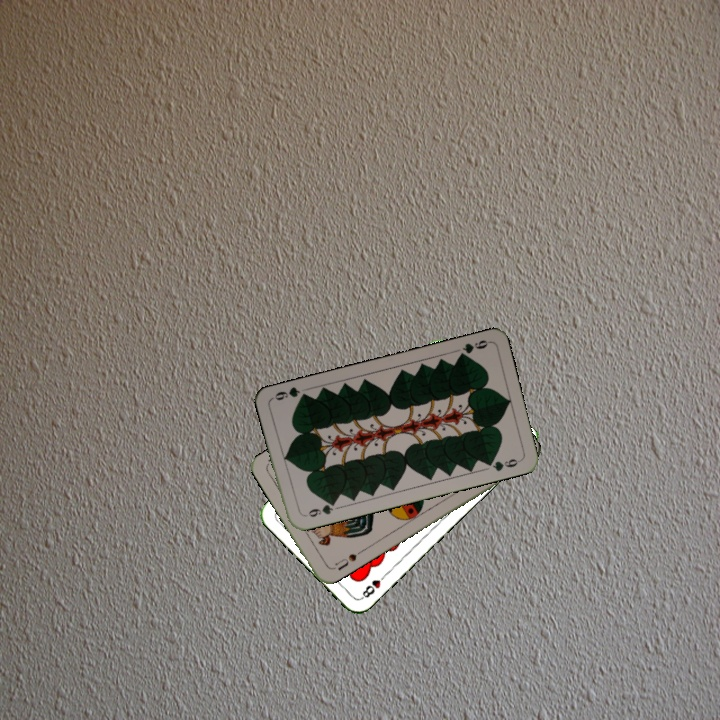G9: (454, 336, 492, 361), (300, 497, 338, 520)
H8: (357, 569, 389, 602)
SU: (327, 550, 359, 573)
